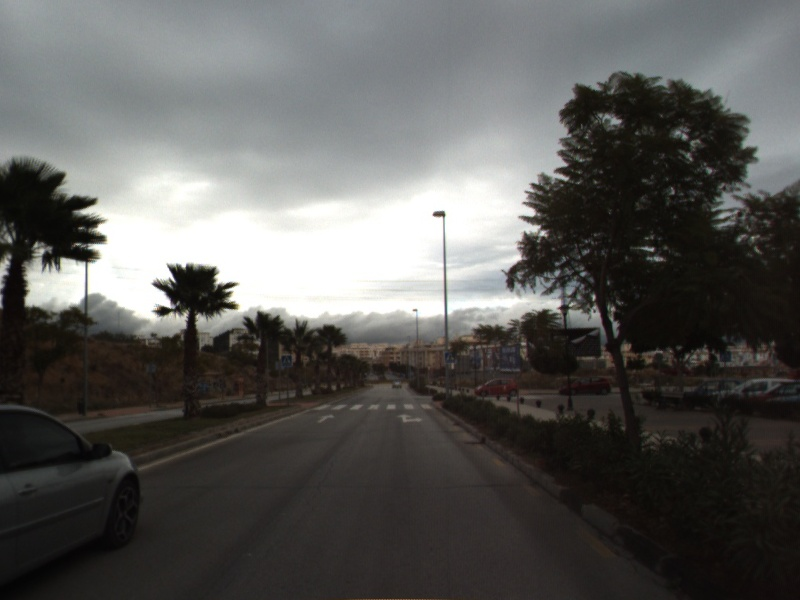STRAIGHT: (315, 412, 337, 425)
STRAIGHT_RIGHT: (395, 412, 425, 424)
